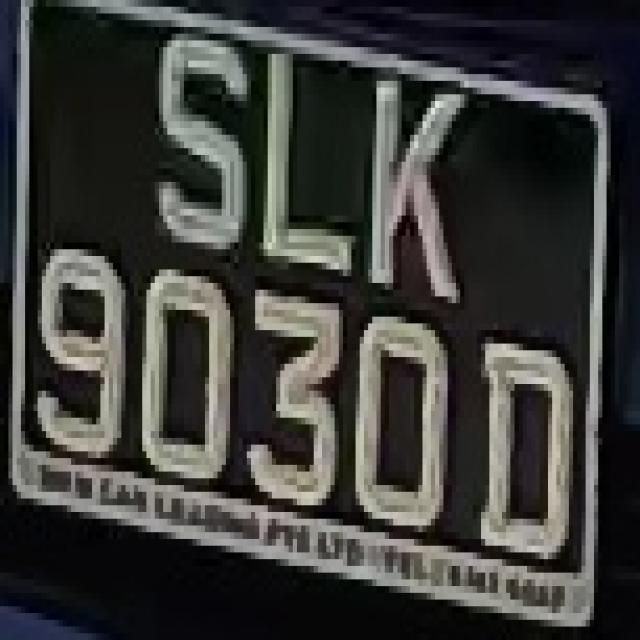0: (343, 296, 452, 552), (130, 249, 234, 512)
3: (235, 270, 352, 526)
9: (25, 195, 130, 512)
D: (473, 317, 577, 586)
K: (356, 48, 472, 324)
L: (251, 27, 356, 290)
S: (125, 20, 247, 263)
